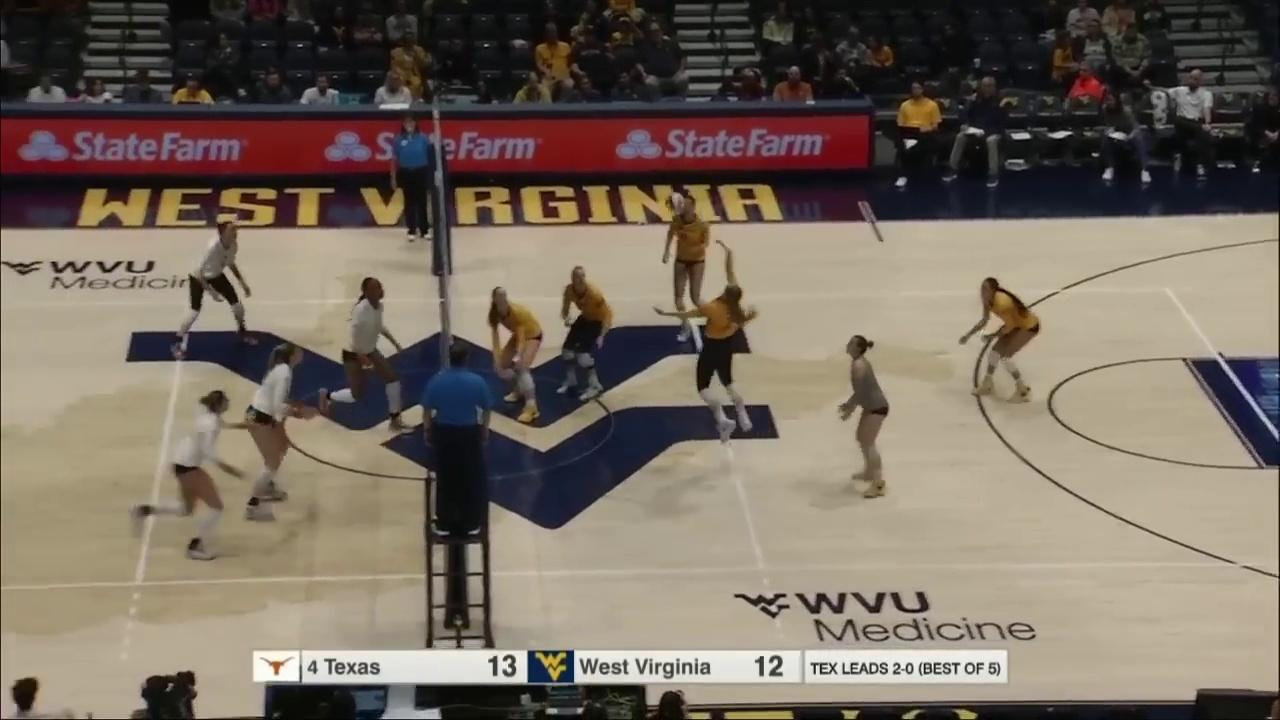player: (655, 246, 755, 440), (131, 391, 242, 563), (317, 278, 416, 435), (169, 222, 259, 358), (243, 344, 307, 523), (959, 275, 1042, 398), (836, 336, 891, 497), (555, 264, 613, 401), (489, 285, 546, 423), (663, 194, 713, 341)
refree: (421, 345, 490, 538), (389, 117, 438, 237)
